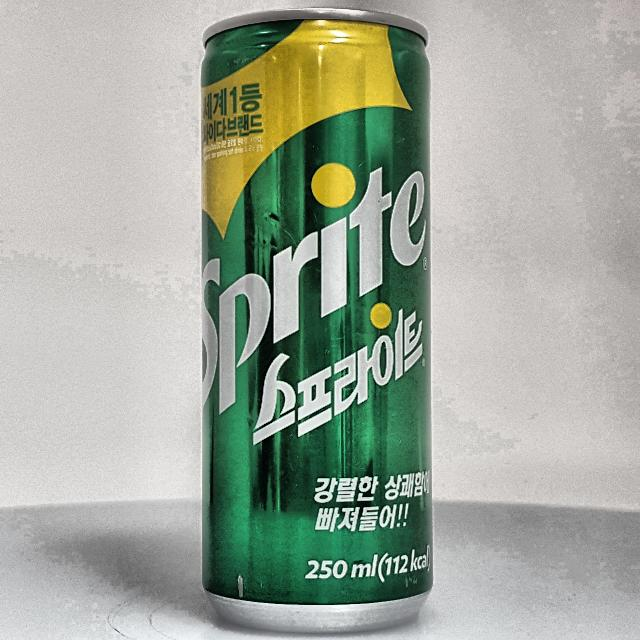sprite: (201, 10, 432, 631)
